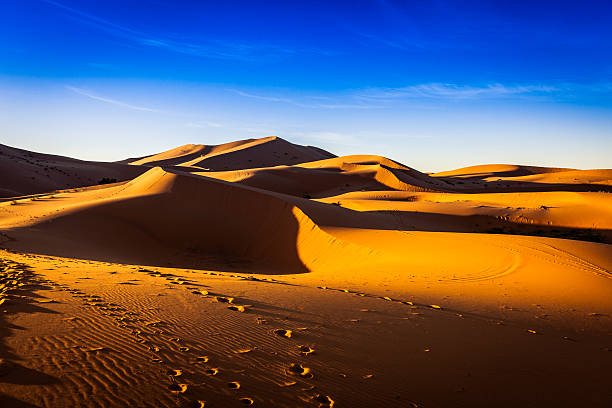human_foot_print: (142, 282, 471, 405), (117, 311, 162, 341), (286, 363, 313, 378), (273, 329, 292, 337), (227, 381, 240, 389)
